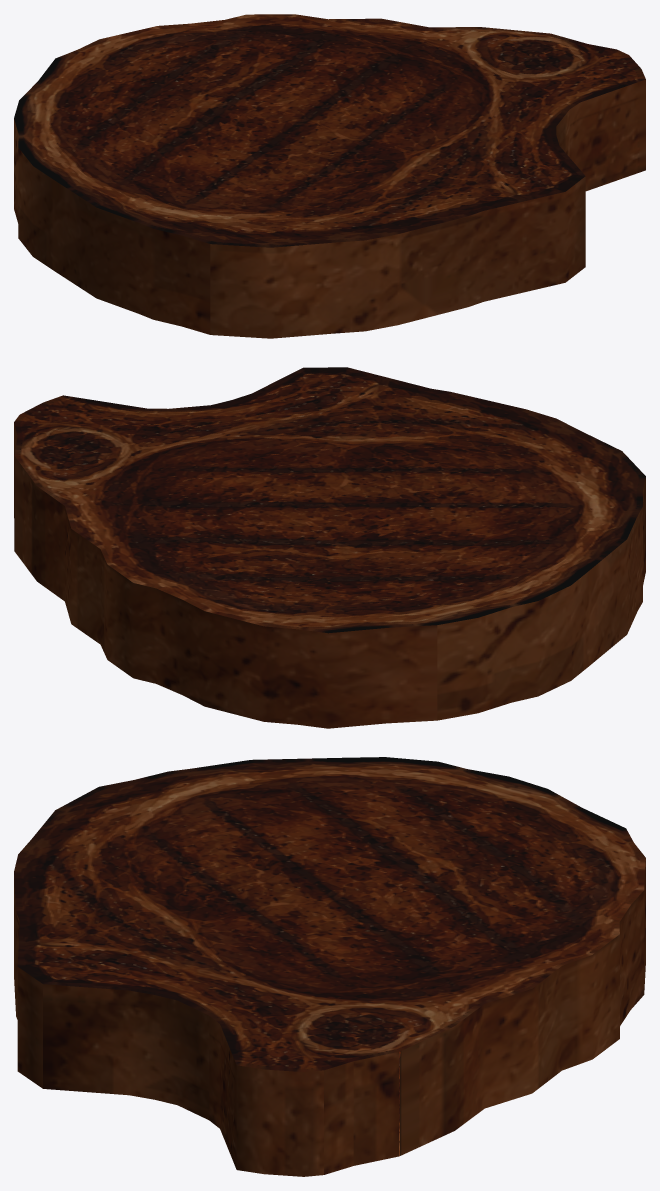
File: steak.obj
3 renders of one model, top to bottom at view 1: azimuth 30°, elevation 25°; view 2: azimuth 150°, elevation 25°; view 3: azimuth 270°, elevation 25°, orthographic. The views are drawn at different scales.
Visible parts, largest first — view 1: GrilledMeat; view 2: GrilledMeat; view 3: GrilledMeat.
Boxes of the visible parts, x1,y1,x2,y2 form: GrilledMeat: (14,14,645,338); GrilledMeat: (14,367,645,728); GrilledMeat: (14,757,645,1176).
Bounding box in the file's own units: 2.66 × 0.4129 × 2.26.
1 material, 1 textured.
